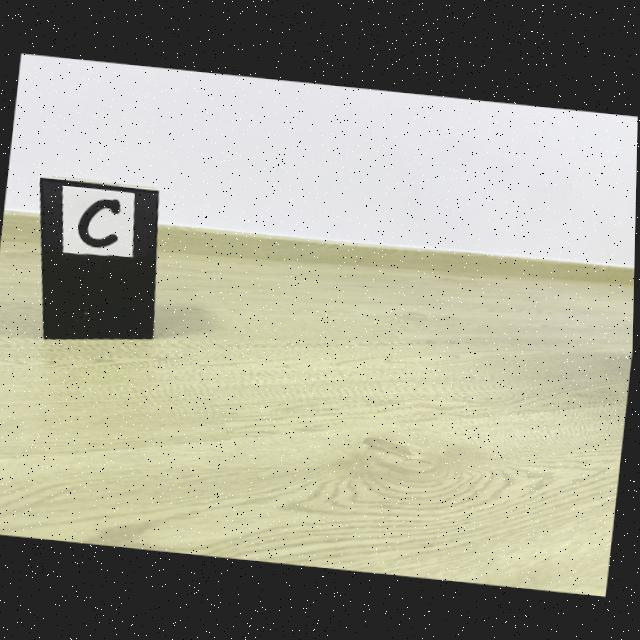C: (78, 198, 121, 247)
